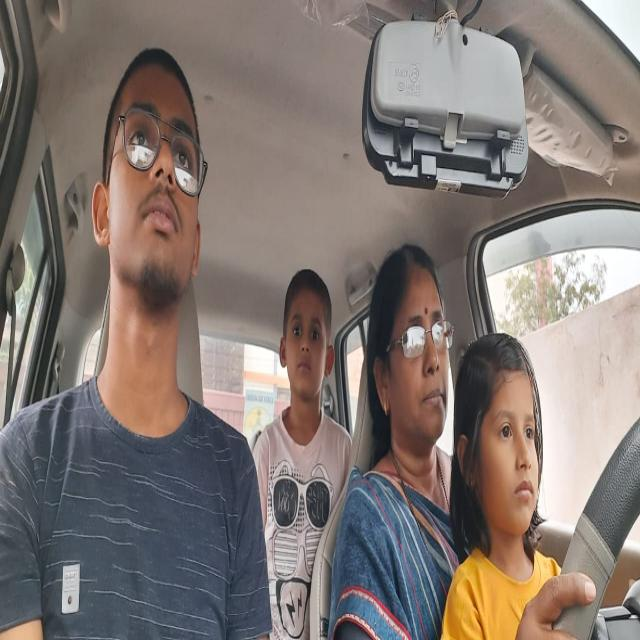child: (467, 352, 546, 543)
person: (100, 52, 202, 327), (366, 246, 452, 454), (271, 259, 339, 408)
